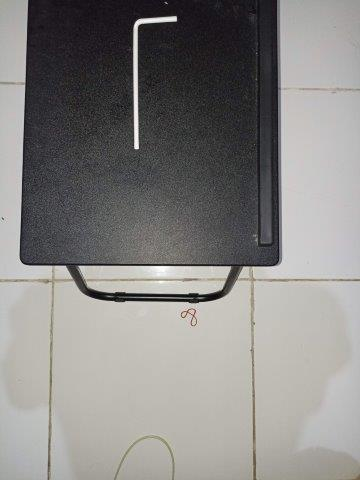karet: (180, 308, 198, 326)
sedotan: (132, 16, 177, 149)
